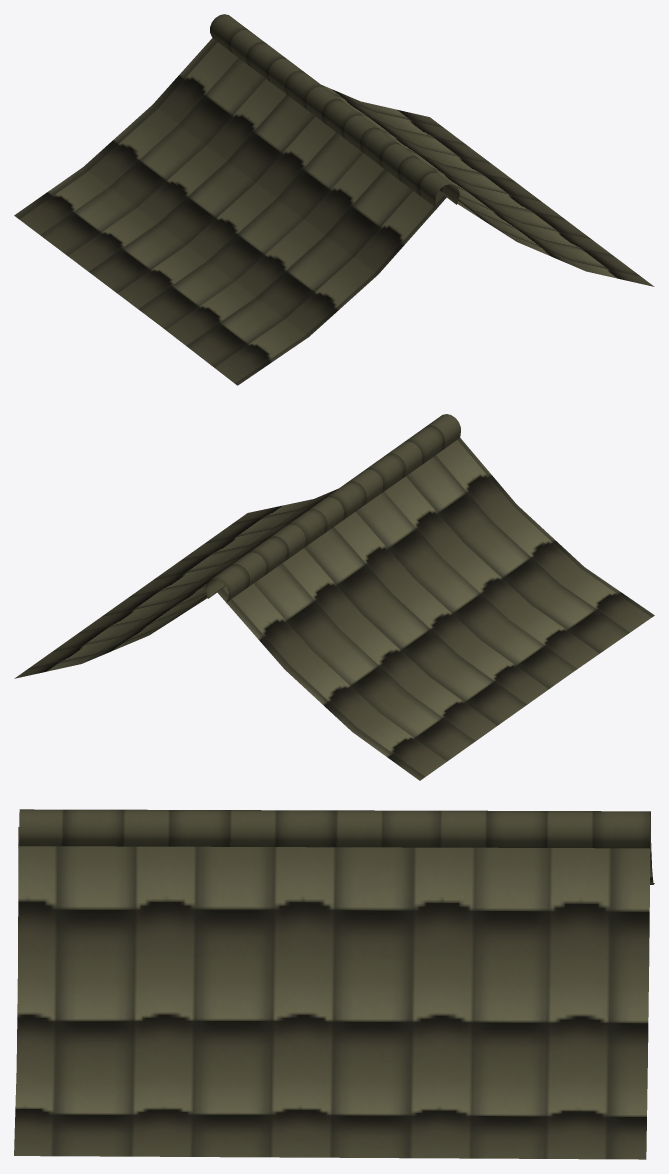
File: NNJ0510050.fbx
The picture shows the model from 3 angles, top to bottom: view 1: azimuth 30°, elevation 25°; view 2: azimuth 150°, elevation 25°; view 3: azimuth 270°, elevation 25°; orthographic projection. The views are drawn at different scales.
Visible parts, largest first — view 1: smNNJ0510050; view 2: smNNJ0510050; view 3: smNNJ0510050.
Part boxes in pixels (x1,y1,x2,y2): smNNJ0510050: (14,14,654,385); smNNJ0510050: (14,414,654,780); smNNJ0510050: (14,809,654,1159).
Bounding box in the file's own units: 324 × 112 × 312.
Materials: 1 (1 with a texture image).
